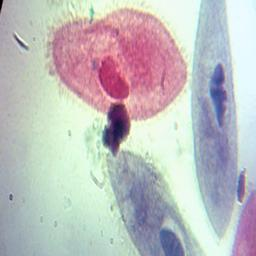Paramecium: (52, 7, 188, 126)
